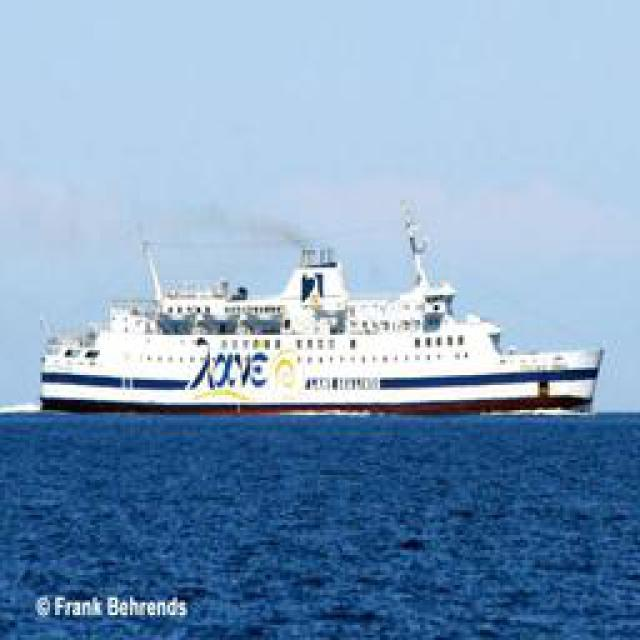Ship: (37, 211, 615, 419)
